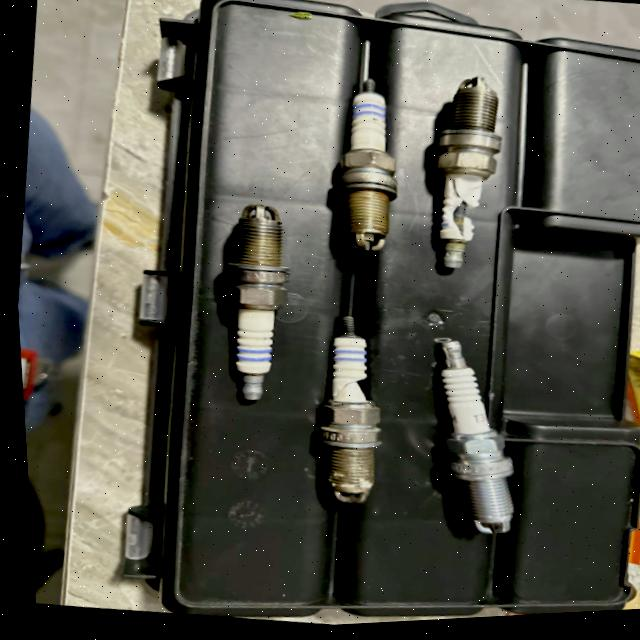damaged_spark-plug: (285, 286, 404, 522), (409, 72, 527, 286)
spark-plug: (403, 321, 552, 561), (198, 196, 305, 417), (304, 69, 423, 266)
